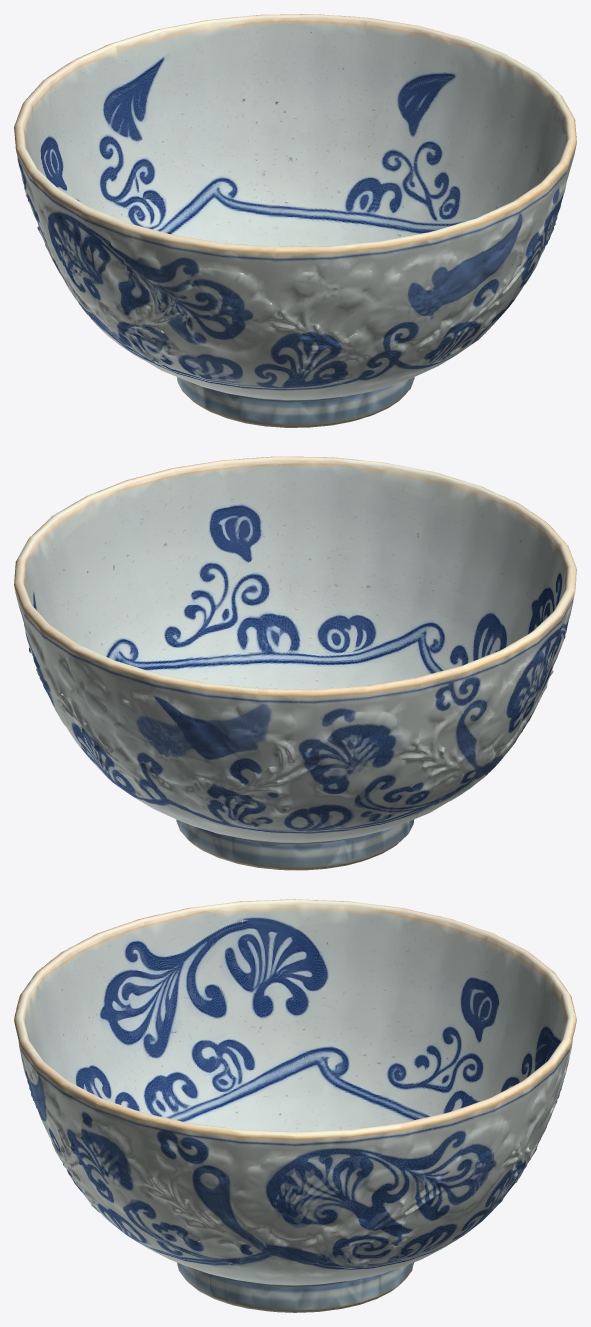
File: cousin_1.glb
3 views of the same model, one above another, from view 1: azimuth 30°, elevation 25°; view 2: azimuth 150°, elevation 25°; view 3: azimuth 270°, elevation 25° (orthographic).
Size of the model in its own units: 1.91 by 0.9335 by 1.91.
Materials: 1 (1 with a texture image).
